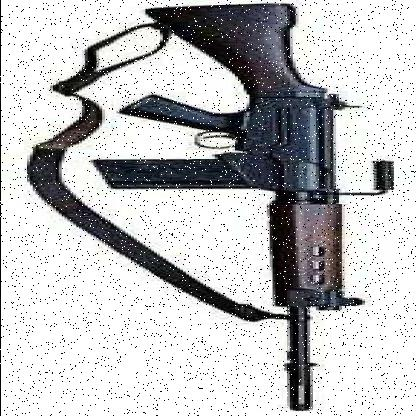rifle: (58, 3, 384, 414)
